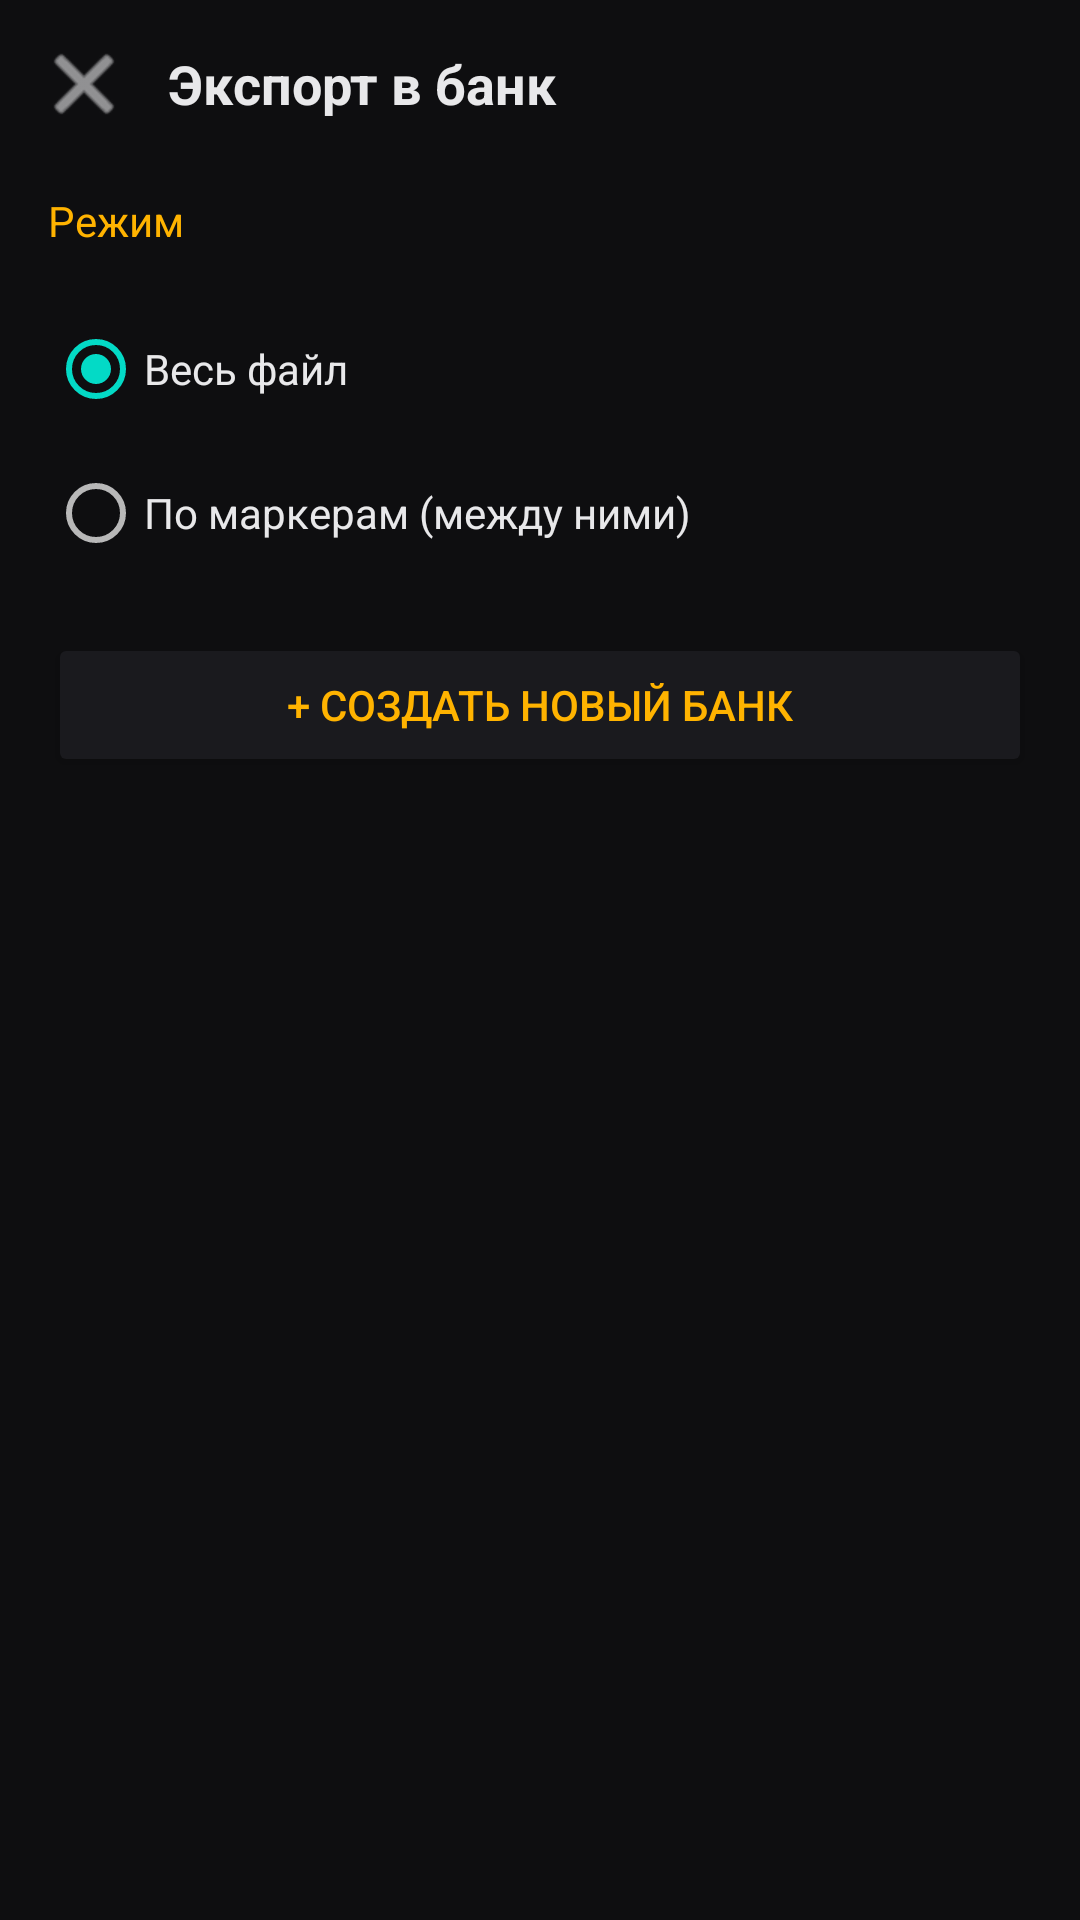

Where to tap for icons on this 1080px x 1920px app screen, as point (x, y):
close clear cancel: point (84, 84)
